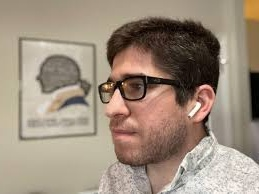earphone: (185, 84, 216, 122)
